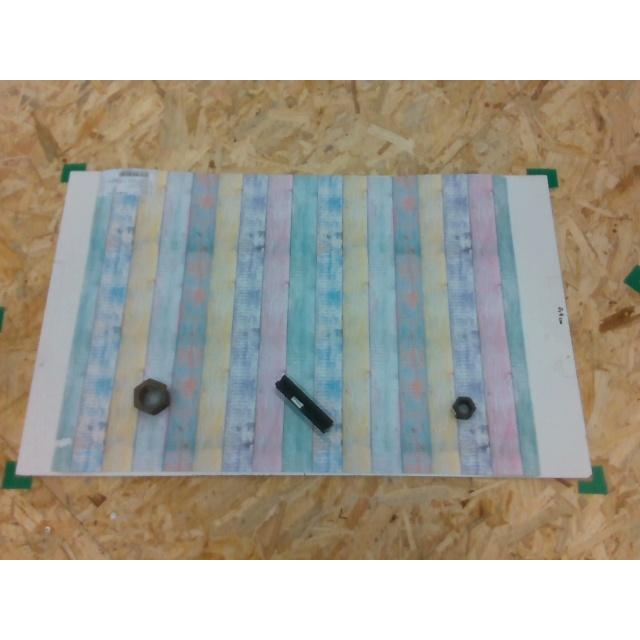F20_20_B: (276, 376, 332, 432)
M20: (452, 396, 476, 418)
M30: (133, 378, 169, 414)
